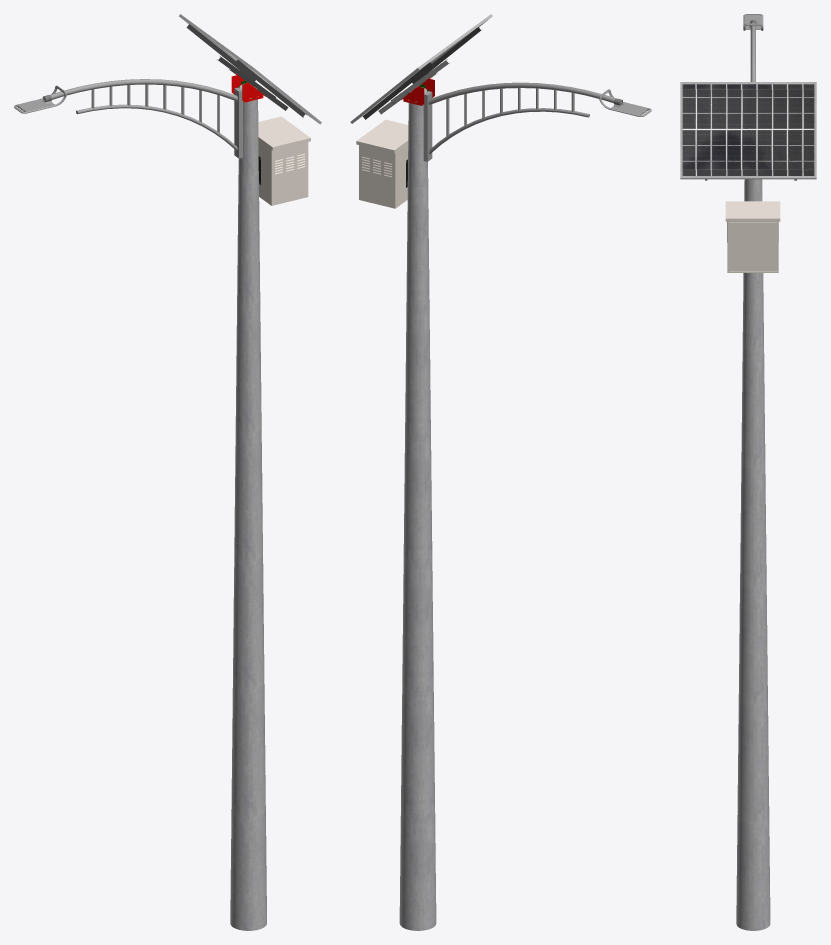
File: streetlamp1.glb
3 renders of one model, left to right at view 1: azimuth 30°, elevation 25°; view 2: azimuth 150°, elevation 25°; view 3: azimuth 270°, elevation 25°, orthographic. The views are drawn at different scales.
Parts seen in each view (by area): view 1: poste_21, BatteryBox_22, BrazoPoste_1, SolarPanel_28; view 2: poste_21, BatteryBox_22, BrazoPoste_1, SolarPanel_28; view 3: poste_21, SolarPanel_28, BatteryBox_22, BrazoPoste_1.
Part boxes in pixels (box(x1,y1,x2,y2)): poste_21: box(230, 83, 266, 930); BatteryBox_22: box(258, 116, 310, 205); BrazoPoste_1: box(43, 79, 242, 158); SolarPanel_28: box(179, 14, 321, 124); poste_21: box(399, 87, 436, 930); BatteryBox_22: box(356, 119, 408, 208); BrazoPoste_1: box(423, 82, 622, 161); SolarPanel_28: box(350, 14, 492, 123); poste_21: box(736, 179, 770, 930); SolarPanel_28: box(680, 82, 816, 179); BatteryBox_22: box(725, 201, 780, 272); BrazoPoste_1: box(750, 22, 755, 81).
Size of the model in its own units: 3.48 by 10.68 by 1.6.
Materials: 17 (7 with a texture image).
